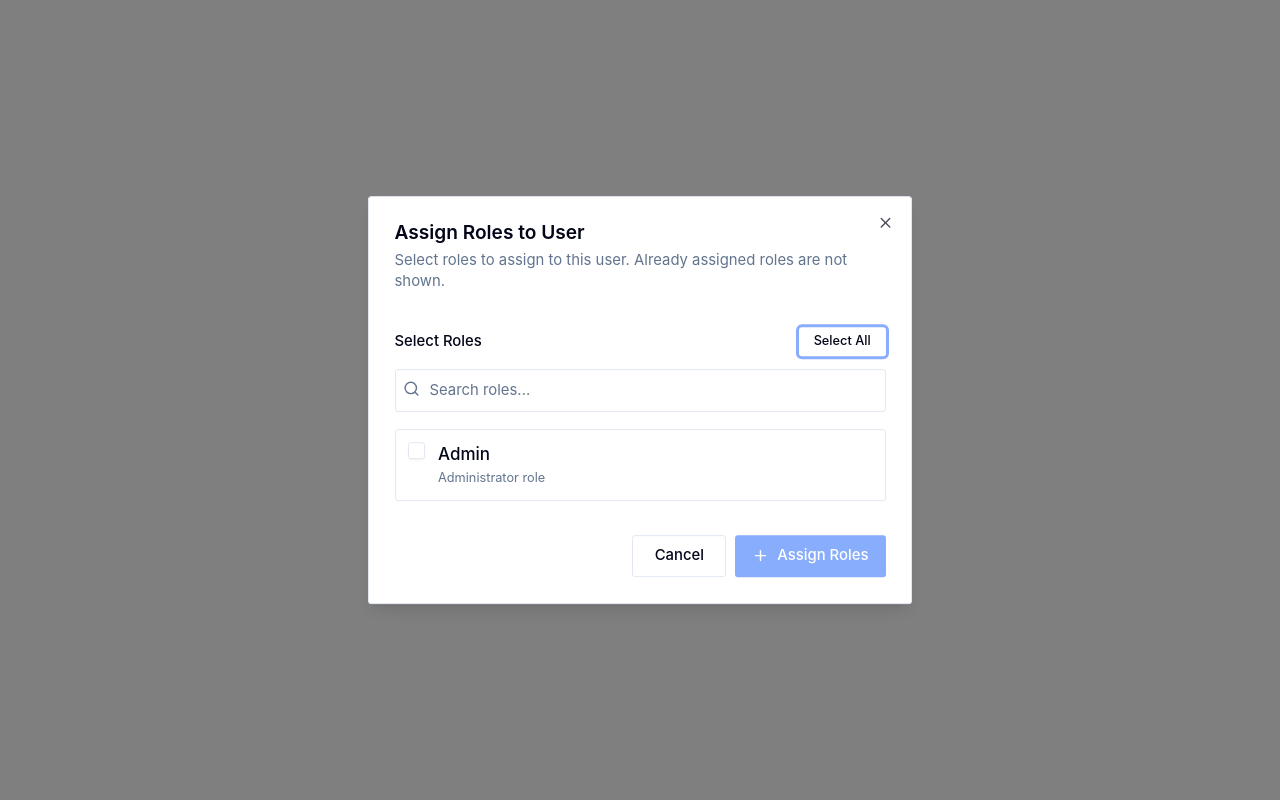
Test: AssignUserRolesDialog › selects and deselects a role
Click the checkbox.
click(417, 451)  # box [408,442,425,460]
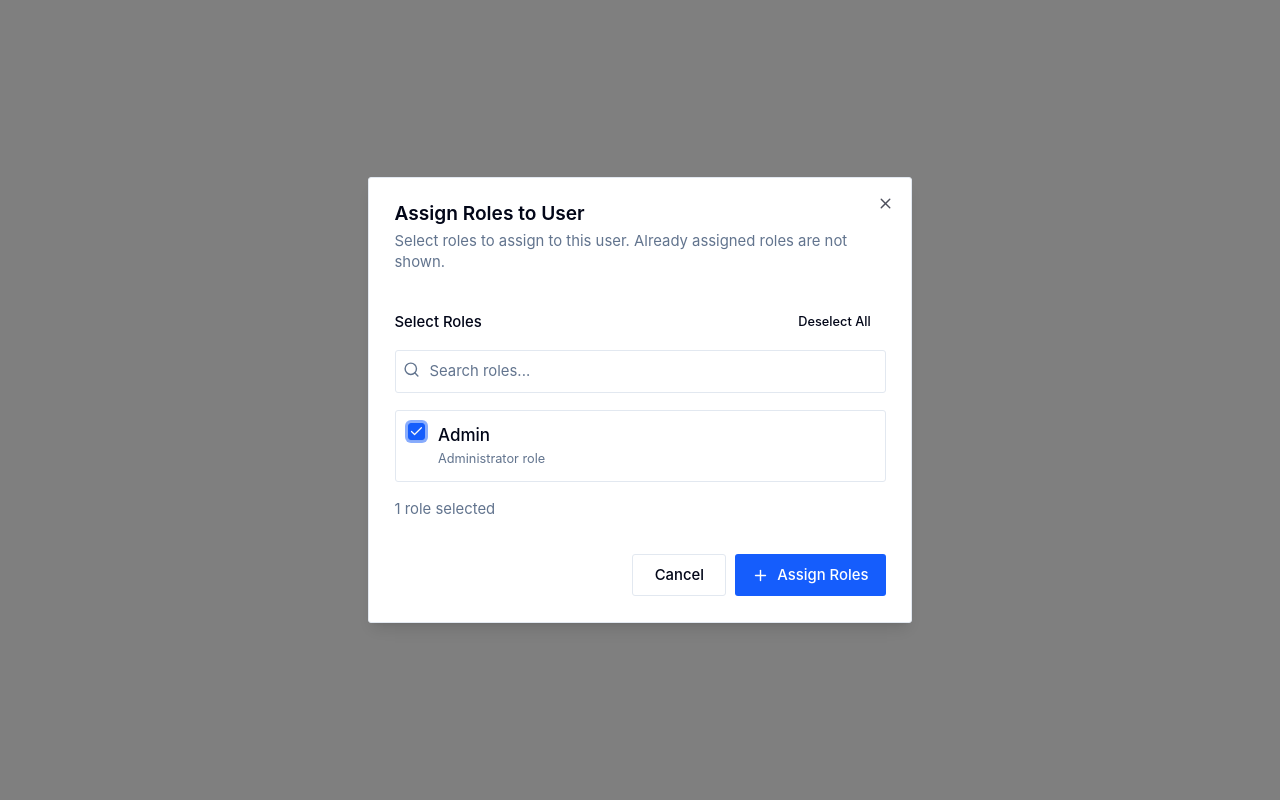
Check: the text "1 role selected" is shown, box [394,500,495,518]
Click the checkbox.
click(417, 432)  # box [408,423,425,440]
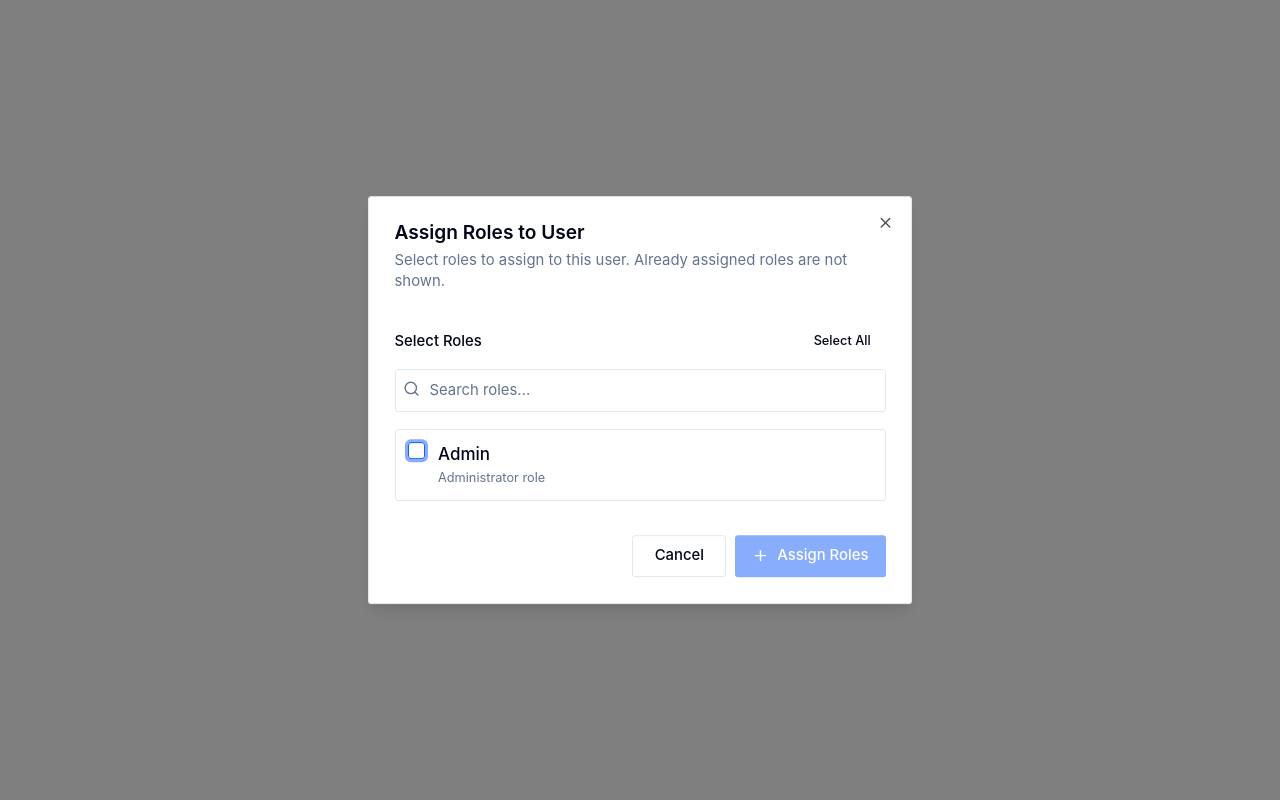
Check: the text "1 role selected" is gone
